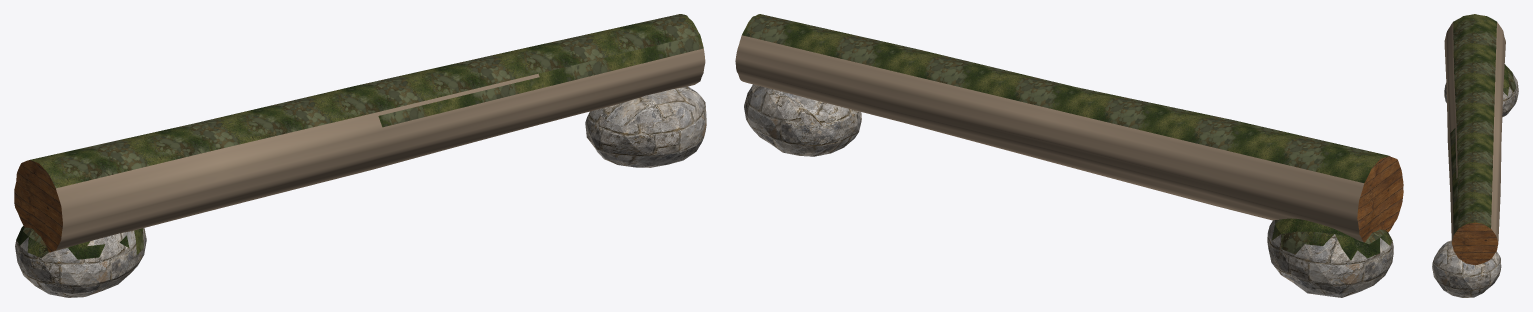
File: log-over-stream-v01.glb
3 views of the same model, side by side, from view 1: azimuth 30°, elevation 25°; view 2: azimuth 150°, elevation 25°; view 3: azimuth 270°, elevation 25° (orthographic). The views are drawn at different scales.
Visible parts, largest first — view 1: log-over-stream; view 2: log-over-stream; view 3: log-over-stream.
Boxes of the visible parts, left/top/right/bottom form: log-over-stream: left=14, top=14, right=706, bottom=297; log-over-stream: left=735, top=14, right=1403, bottom=297; log-over-stream: left=1432, top=14, right=1518, bottom=297.
Bounding box in the file's own units: 7.24 × 1.4 × 1.27.
4 materials, 3 textured.
